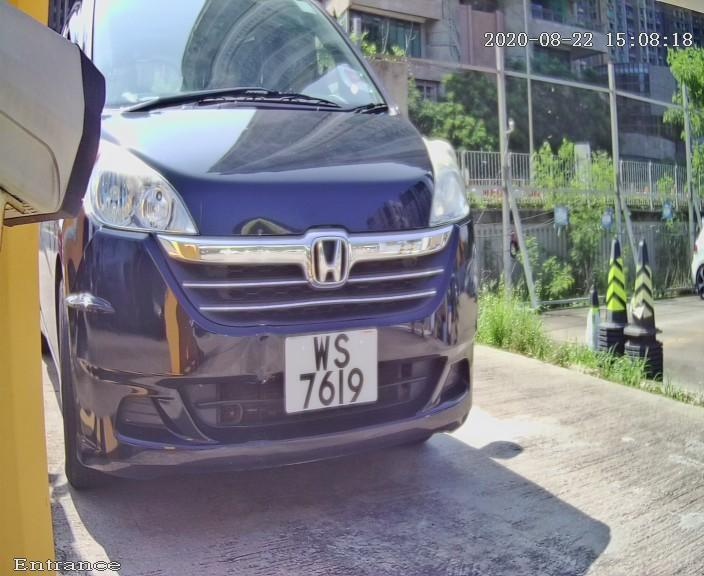Car: (29, 3, 510, 538)
License Plate: (274, 319, 387, 425)
